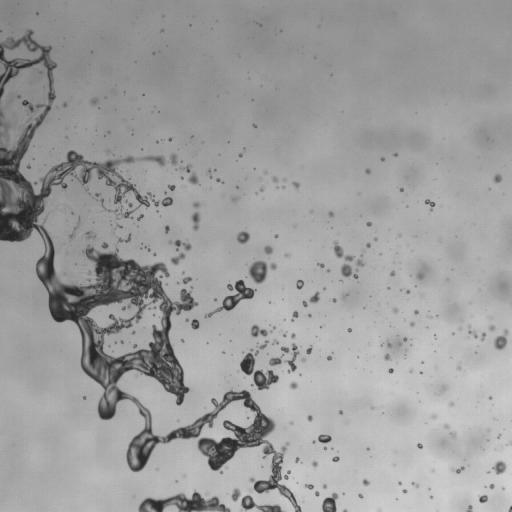droplet: (239, 340, 278, 390), (269, 342, 299, 372), (248, 260, 276, 284), (321, 492, 338, 511), (494, 329, 508, 349), (250, 324, 269, 337), (492, 460, 506, 474), (171, 252, 185, 265), (191, 212, 200, 230), (236, 231, 249, 243), (185, 318, 199, 329), (318, 434, 331, 444), (425, 199, 435, 211), (85, 229, 97, 239), (309, 291, 319, 303), (355, 255, 364, 267), (111, 223, 121, 232), (170, 153, 177, 165), (264, 245, 273, 254), (493, 174, 501, 183), (478, 495, 487, 503), (181, 277, 191, 284), (90, 97, 98, 105), (290, 381, 298, 389), (296, 280, 303, 289), (291, 311, 298, 320), (292, 181, 299, 189), (479, 332, 485, 341), (306, 345, 312, 354), (416, 273, 424, 279), (193, 202, 200, 208), (362, 479, 369, 485), (465, 505, 472, 511), (167, 185, 175, 190), (305, 484, 313, 489), (272, 176, 278, 182), (137, 214, 143, 220), (392, 307, 398, 313), (384, 354, 390, 360), (443, 423, 449, 429), (488, 325, 495, 330), (271, 339, 278, 344), (332, 456, 339, 461), (411, 482, 418, 487), (232, 196, 238, 201), (328, 211, 333, 217), (390, 270, 395, 276), (302, 301, 308, 306), (431, 414, 437, 419), (450, 432, 455, 438), (311, 461, 317, 466), (165, 225, 169, 232), (365, 168, 370, 173), (388, 368, 393, 373), (307, 415, 312, 420), (417, 443, 422, 448), (295, 457, 300, 462), (318, 263, 324, 267), (441, 386, 447, 390), (106, 149, 110, 154), (216, 178, 221, 182), (366, 222, 371, 226), (366, 242, 370, 247), (291, 333, 295, 338), (387, 342, 391, 347), (327, 356, 332, 360), (457, 365, 461, 370), (489, 484, 494, 488), (315, 491, 319, 496), (358, 493, 362, 498), (238, 153, 242, 157), (260, 187, 264, 191), (399, 187, 403, 191), (145, 246, 149, 250), (285, 253, 289, 257), (63, 271, 67, 275), (332, 298, 336, 302), (414, 310, 418, 314), (410, 322, 414, 326), (347, 328, 351, 332), (403, 337, 407, 341), (449, 402, 453, 406), (403, 489, 407, 493), (508, 440, 511, 445), (508, 506, 511, 511), (381, 157, 384, 161), (27, 164, 30, 168), (274, 234, 278, 237), (406, 290, 410, 293), (343, 294, 347, 297), (283, 332, 286, 336), (302, 358, 305, 362), (339, 410, 342, 414), (342, 509, 347, 511), (63, 103, 66, 106), (253, 124, 256, 127), (394, 153, 397, 156), (374, 237, 377, 240), (326, 269, 329, 272), (428, 315, 431, 318), (271, 327, 274, 330), (132, 331, 135, 334), (497, 434, 500, 437), (323, 447, 326, 450), (323, 485, 326, 488), (377, 509, 381, 511), (214, 298, 216, 301), (308, 314, 311, 316), (83, 396, 85, 399), (489, 396, 491, 399), (398, 482, 401, 484), (501, 487, 504, 489), (169, 138, 171, 140), (264, 171, 266, 173), (71, 212, 73, 214), (154, 253, 156, 255), (323, 287, 325, 289), (181, 339, 183, 341), (410, 370, 412, 372), (420, 372, 422, 374), (371, 407, 373, 409), (431, 470, 433, 472), (206, 493, 208, 495), (430, 496, 432, 498)
ligament: (0, 29, 301, 511), (205, 279, 256, 317), (138, 491, 230, 511), (333, 240, 358, 278), (179, 164, 199, 184), (68, 216, 81, 240), (168, 240, 191, 250), (468, 325, 477, 337), (452, 466, 464, 473), (207, 169, 212, 178), (85, 187, 88, 193)
